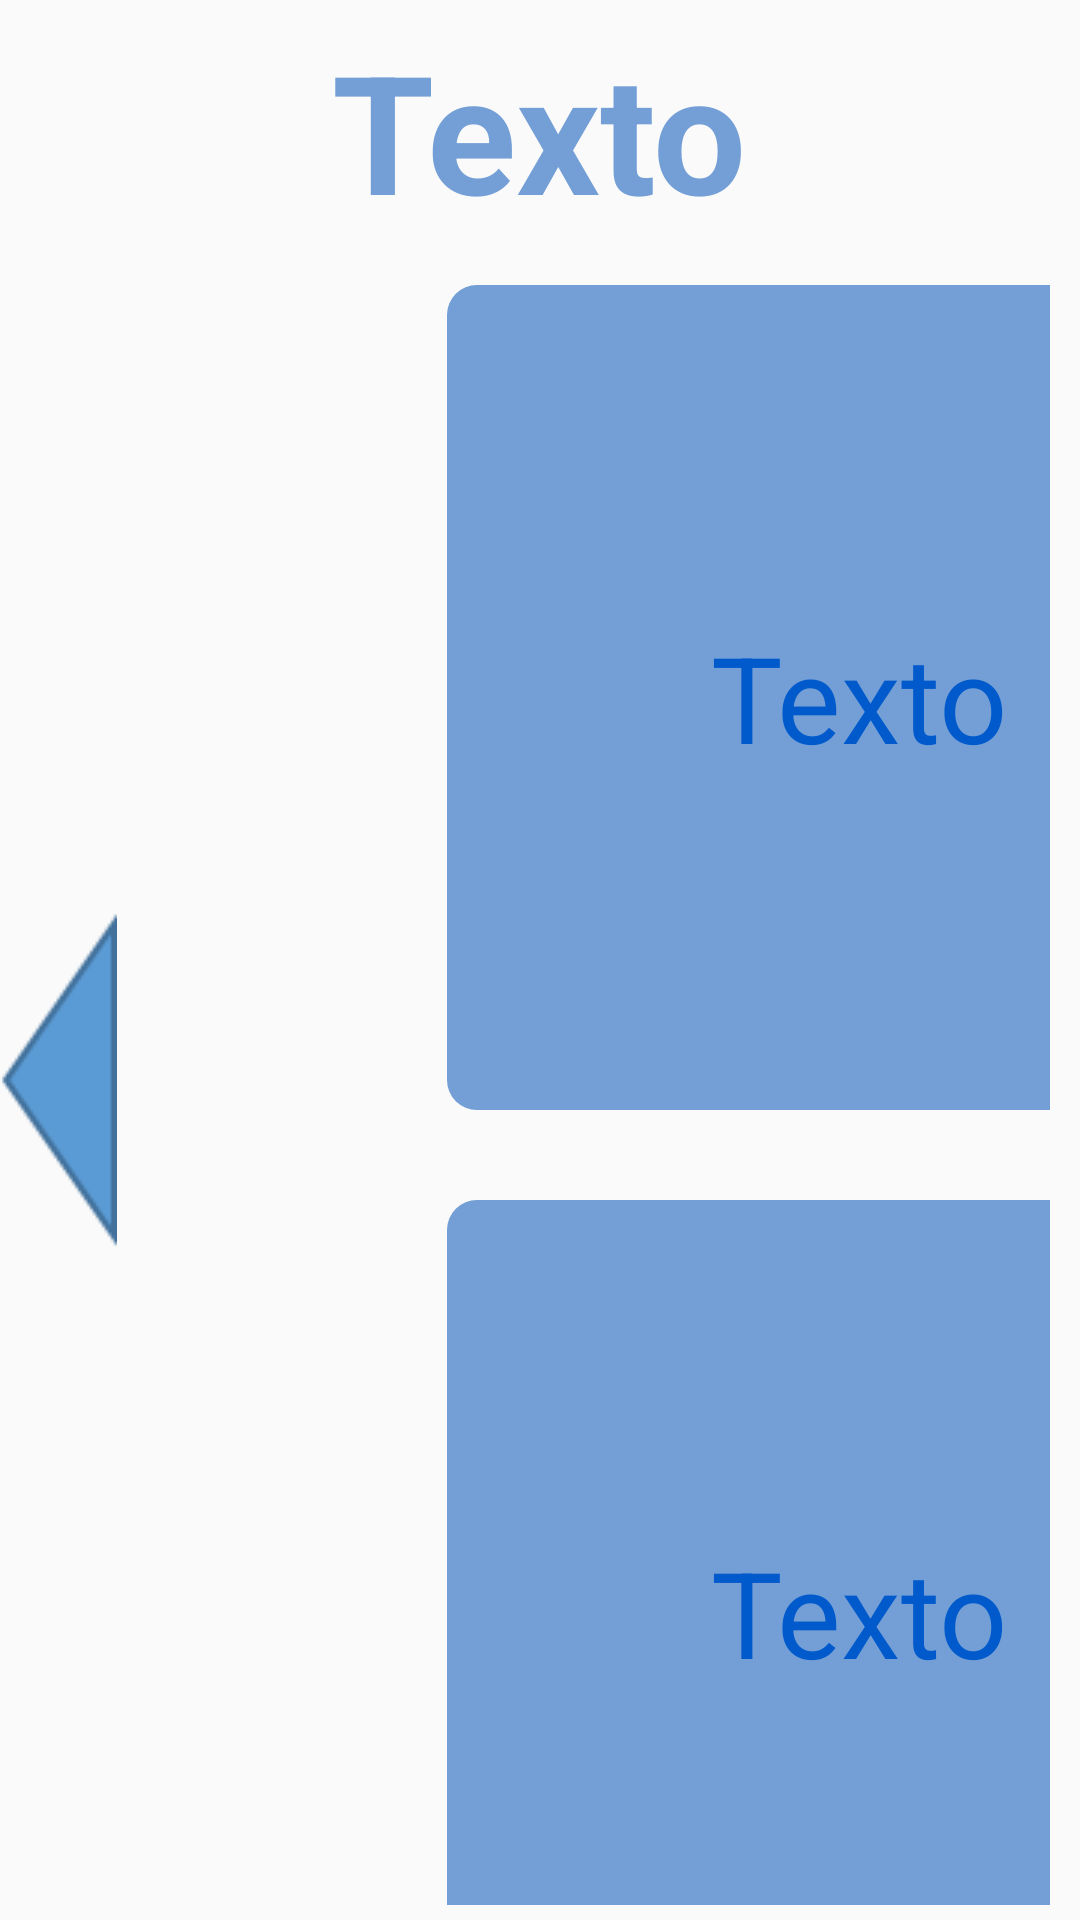

Icons on this 1080px x 1920px Android screen, each with the point to tap as [x,y]:
avance izquierda: [59,1080]
